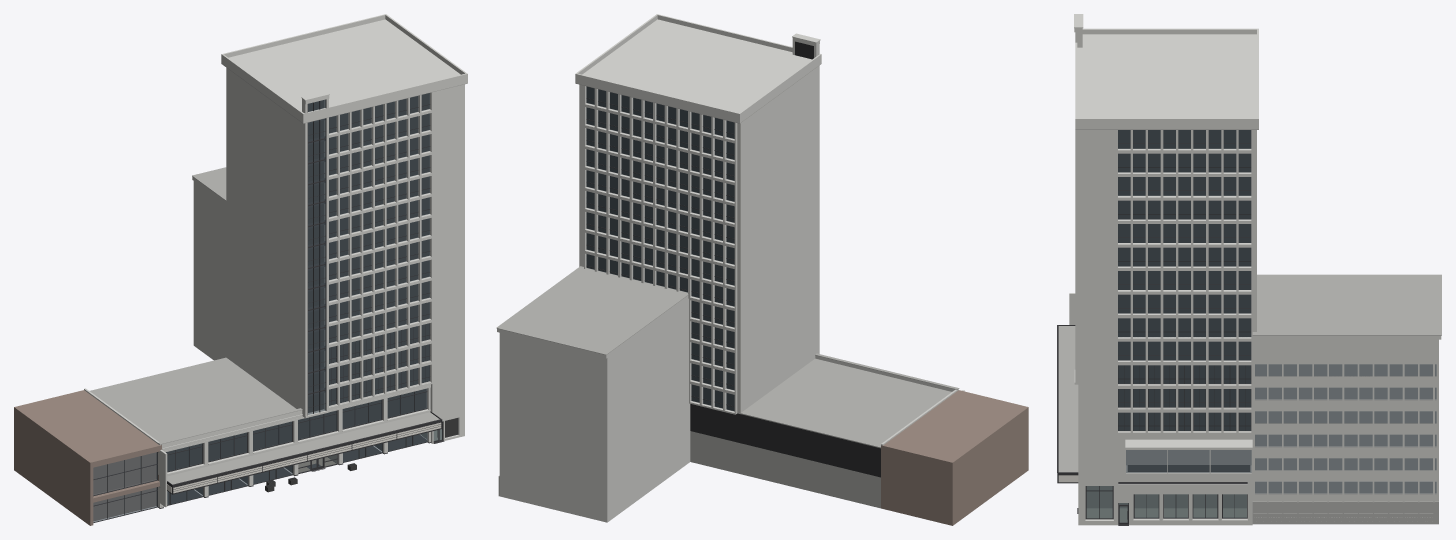
The model's file is abc_building.glb.
3 renders of one model, left to right at view 1: azimuth 30°, elevation 25°; view 2: azimuth 150°, elevation 25°; view 3: azimuth 270°, elevation 25°, orthographic. The views are drawn at different scales.
Parts seen in each view (by area): view 1: ABC_Tower_Mass, ABC_Tower_RoofCornice, ABC_EndBlock_Mass, ABC_Tower_CornerBlankWall_Quay, ABC_Podium_Roof, ABC_RearWing_Mass, ABC_TowerCore_CurtainGlass, ABC_Podium_UpperFloorMass, ABC_TowerCore_Frame, ABC_TowerCore_Backing, ABC_Tower_Parapet, ABC_Canopy_Deck (+20 smaller); view 2: ABC_RearWing_Mass, ABC_Tower_Mass, ABC_EndBlock_Mass, ABC_Tower_RoofCornice, ABC_Podium_Roof, ABC_RearWing_ParapetCoping, ABC_Podium_UpperFloorMass, ABC_Podium_RearServiceMass, ABC_Tower_Parapet, ABC_Podium_FirstFloorSlab, ABC_TowerCore_Frame, ABC_Podium_Parapet (+1 smaller); view 3: ABC_RearWing_Mass, ABC_Tower_RoofCornice, ABC_Tower_CornerBlankWall_LowerByrom, ABC_RearWing_ParapetCoping, ABC_LowerByrom_BaseWall, ABC_RearWing_Fins, ABC_RearWing_BaseBand, ABC_TowerGlass_ProjectingVolume_Front, ABC_Canopy_Deck, ABC_Tower_Parapet, ABC_PodiumGlass_RearWing_F01, ABC_PodiumGlass_RearWing_F02 (+17 smaller).
Part boxes in pixels (<box>): ABC_Tower_Mass: <box>226,68,301,408</box>; ABC_Tower_RoofCornice: <box>221,19,467,123</box>; ABC_EndBlock_Mass: <box>14,390,155,522</box>; ABC_Tower_CornerBlankWall_Quay: <box>430,85,461,443</box>; ABC_Podium_Roof: <box>90,357,296,442</box>; ABC_RearWing_Mass: <box>193,181,226,360</box>; ABC_TowerCore_CurtainGlass: <box>308,100,325,414</box>; ABC_Podium_UpperFloorMass: <box>166,389,425,470</box>; ABC_TowerCore_Frame: <box>301,91,329,418</box>; ABC_TowerCore_Backing: <box>308,100,323,412</box>; ABC_Tower_Parapet: <box>221,14,467,118</box>; ABC_Canopy_Deck: <box>167,412,439,484</box>; ABC_RearWing_Mass: <box>499,298,690,522</box>; ABC_Tower_Mass: <box>582,68,816,413</box>; ABC_EndBlock_Mass: <box>881,393,1024,525</box>; ABC_Tower_RoofCornice: <box>575,19,821,123</box>; ABC_Podium_Roof: <box>740,358,951,448</box>; ABC_RearWing_ParapetCoping: <box>496,266,688,354</box>; ABC_Podium_UpperFloorMass: <box>690,404,880,477</box>; ABC_Podium_RearServiceMass: <box>690,440,880,508</box>; ABC_Tower_Parapet: <box>575,14,821,118</box>; ABC_Podium_FirstFloorSlab: <box>690,431,880,486</box>; ABC_TowerCore_Frame: <box>792,33,820,353</box>; ABC_Podium_Parapet: <box>815,355,958,445</box>; ABC_RearWing_Mass: <box>1252,339,1438,500</box>; ABC_Tower_RoofCornice: <box>1075,34,1258,129</box>; ABC_Tower_CornerBlankWall_LowerByrom: <box>1078,130,1116,434</box>; ABC_RearWing_ParapetCoping: <box>1252,274,1441,335</box>; ABC_LowerByrom_BaseWall: <box>1078,434,1252,525</box>; ABC_RearWing_Fins: <box>1267,339,1434,502</box>; ABC_RearWing_BaseBand: <box>1252,501,1438,524</box>; ABC_TowerGlass_ProjectingVolume_Front: <box>1126,450,1251,472</box>; ABC_Canopy_Deck: <box>1058,326,1078,472</box>; ABC_Tower_Parapet: <box>1075,28,1258,123</box>; ABC_PodiumGlass_RearWing_F01: <box>1255,481,1436,493</box>; ABC_PodiumGlass_RearWing_F02: <box>1255,458,1436,470</box>.
Size of the model in its own units: 64.85 by 60.22 by 49.68.
